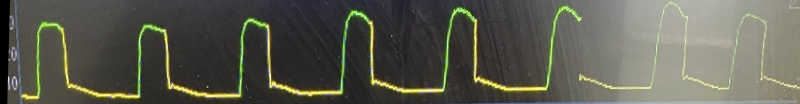normal_pressure: (28, 4, 554, 104), (583, 0, 799, 104)
